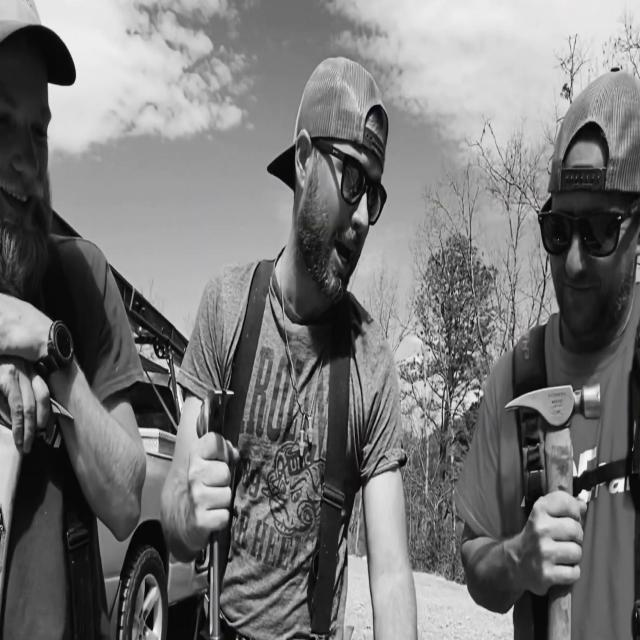hammer: (506, 377, 603, 640), (196, 384, 235, 640)
